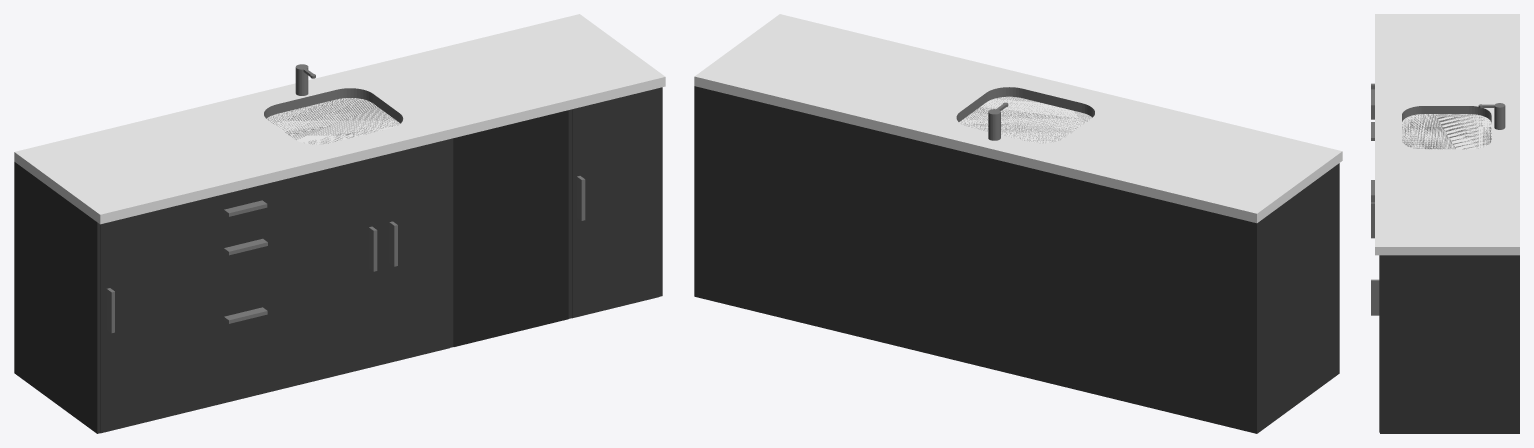
The model's file is kitchen_counter.min.dae.
3 views of the same model, side by side, from view 1: azimuth 30°, elevation 25°; view 2: azimuth 150°, elevation 25°; view 3: azimuth 270°, elevation 25° (orthographic). The views are drawn at different scales.
Visible parts, largest first — view 1: Component (×5); view 2: Component (×4); view 3: Component (×6).
Boxes of the visible parts, x1,y1,x2,y2 form: Component (×5): [14, 14, 665, 433]; Component (×4): [694, 14, 1342, 433]; Component (×6): [1371, 14, 1519, 433].
Size of the model in its own units: 96.85 by 26.16 by 40.55.
Materials: 5 (4 with a texture image).
